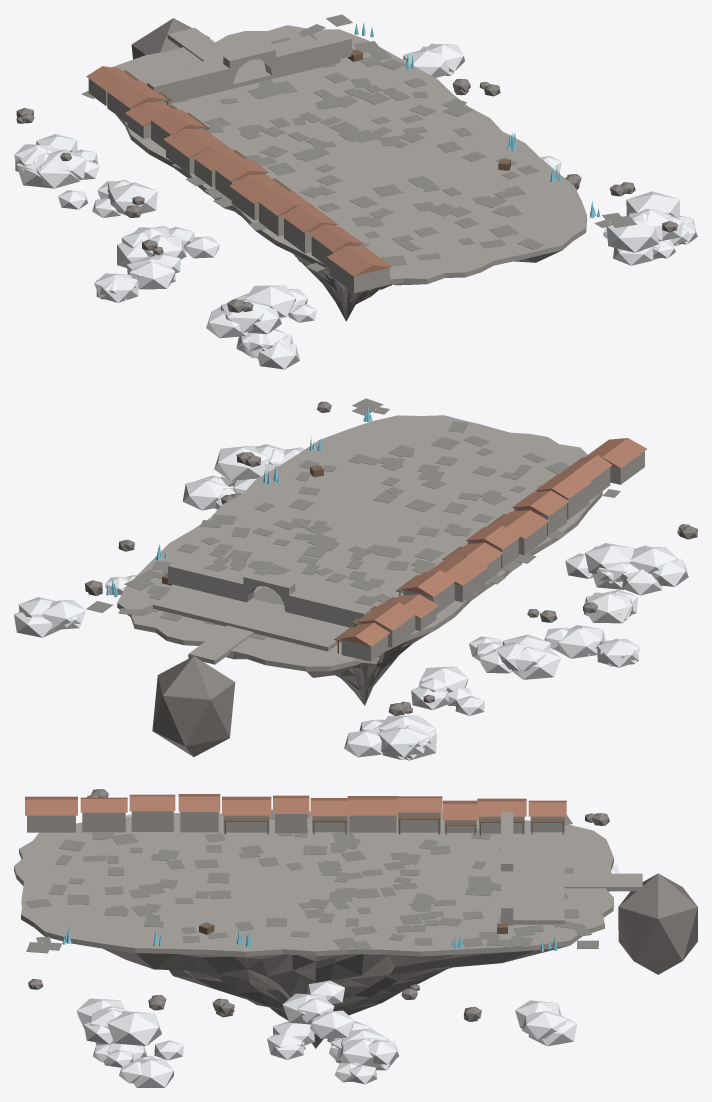
File: abyss.glb
3 views of the same model, one above another, from view 1: azimuth 30°, elevation 25°; view 2: azimuth 150°, elevation 25°; view 3: azimuth 270°, elevation 25° (orthographic).
Parts seen in each view (by area): view 1: Static, Mist_23, Mist_24, Mist_12, Mist_22, Mist_16, Mist_14, Mist_10, Mist_18, Mist_17, Mist_20, Mist_19; view 2: Static, Mist_22, Mist_12, Mist_24, Mist_16, Mist_17, Mist_23, Mist_18, Mist_14, Mist_20, Mist_10, Mist_13; view 3: Static, Mist_23, Mist_25, Mist_17, Mist_13, Mist_11, Mist_21, Mist_15, Mist_19.
Boxes of the visible parts, bbox=[...] form: Static: bbox=[81, 14, 636, 321]; Mist_23: bbox=[606, 191, 683, 252]; Mist_24: bbox=[94, 253, 180, 302]; Mist_12: bbox=[117, 226, 219, 267]; Mist_22: bbox=[206, 285, 295, 338]; Mist_16: bbox=[58, 179, 157, 217]; Mist_14: bbox=[14, 144, 99, 188]; Mist_10: bbox=[236, 328, 299, 369]; Mist_18: bbox=[15, 134, 98, 188]; Mist_17: bbox=[403, 43, 464, 77]; Mist_20: bbox=[211, 289, 316, 334]; Mist_19: bbox=[613, 228, 688, 265]; Static: bbox=[86, 398, 646, 756]; Mist_22: bbox=[585, 543, 688, 586]; Mist_12: bbox=[469, 634, 560, 679]; Mist_24: bbox=[544, 625, 640, 667]; Mist_16: bbox=[411, 666, 484, 715]; Mist_17: bbox=[14, 597, 86, 637]; Mist_23: bbox=[214, 444, 304, 480]; Mist_18: bbox=[344, 719, 436, 760]; Mist_14: bbox=[378, 715, 436, 758]; Mist_20: bbox=[565, 545, 662, 595]; Mist_10: bbox=[584, 589, 637, 623]; Mist_13: bbox=[183, 475, 235, 510]; Static: bbox=[14, 794, 697, 1048]; Mist_23: bbox=[76, 998, 161, 1045]; Mist_25: bbox=[282, 980, 354, 1038]; Mist_17: bbox=[515, 1000, 577, 1046]; Mist_13: bbox=[119, 1040, 183, 1087]; Mist_11: bbox=[327, 1020, 387, 1067]; Mist_21: bbox=[335, 1037, 399, 1084]; Mist_15: bbox=[267, 1021, 314, 1059]; Mist_19: bbox=[93, 1042, 147, 1067].
Size of the model in its own units: 38.64 by 13.9 by 43.92.
